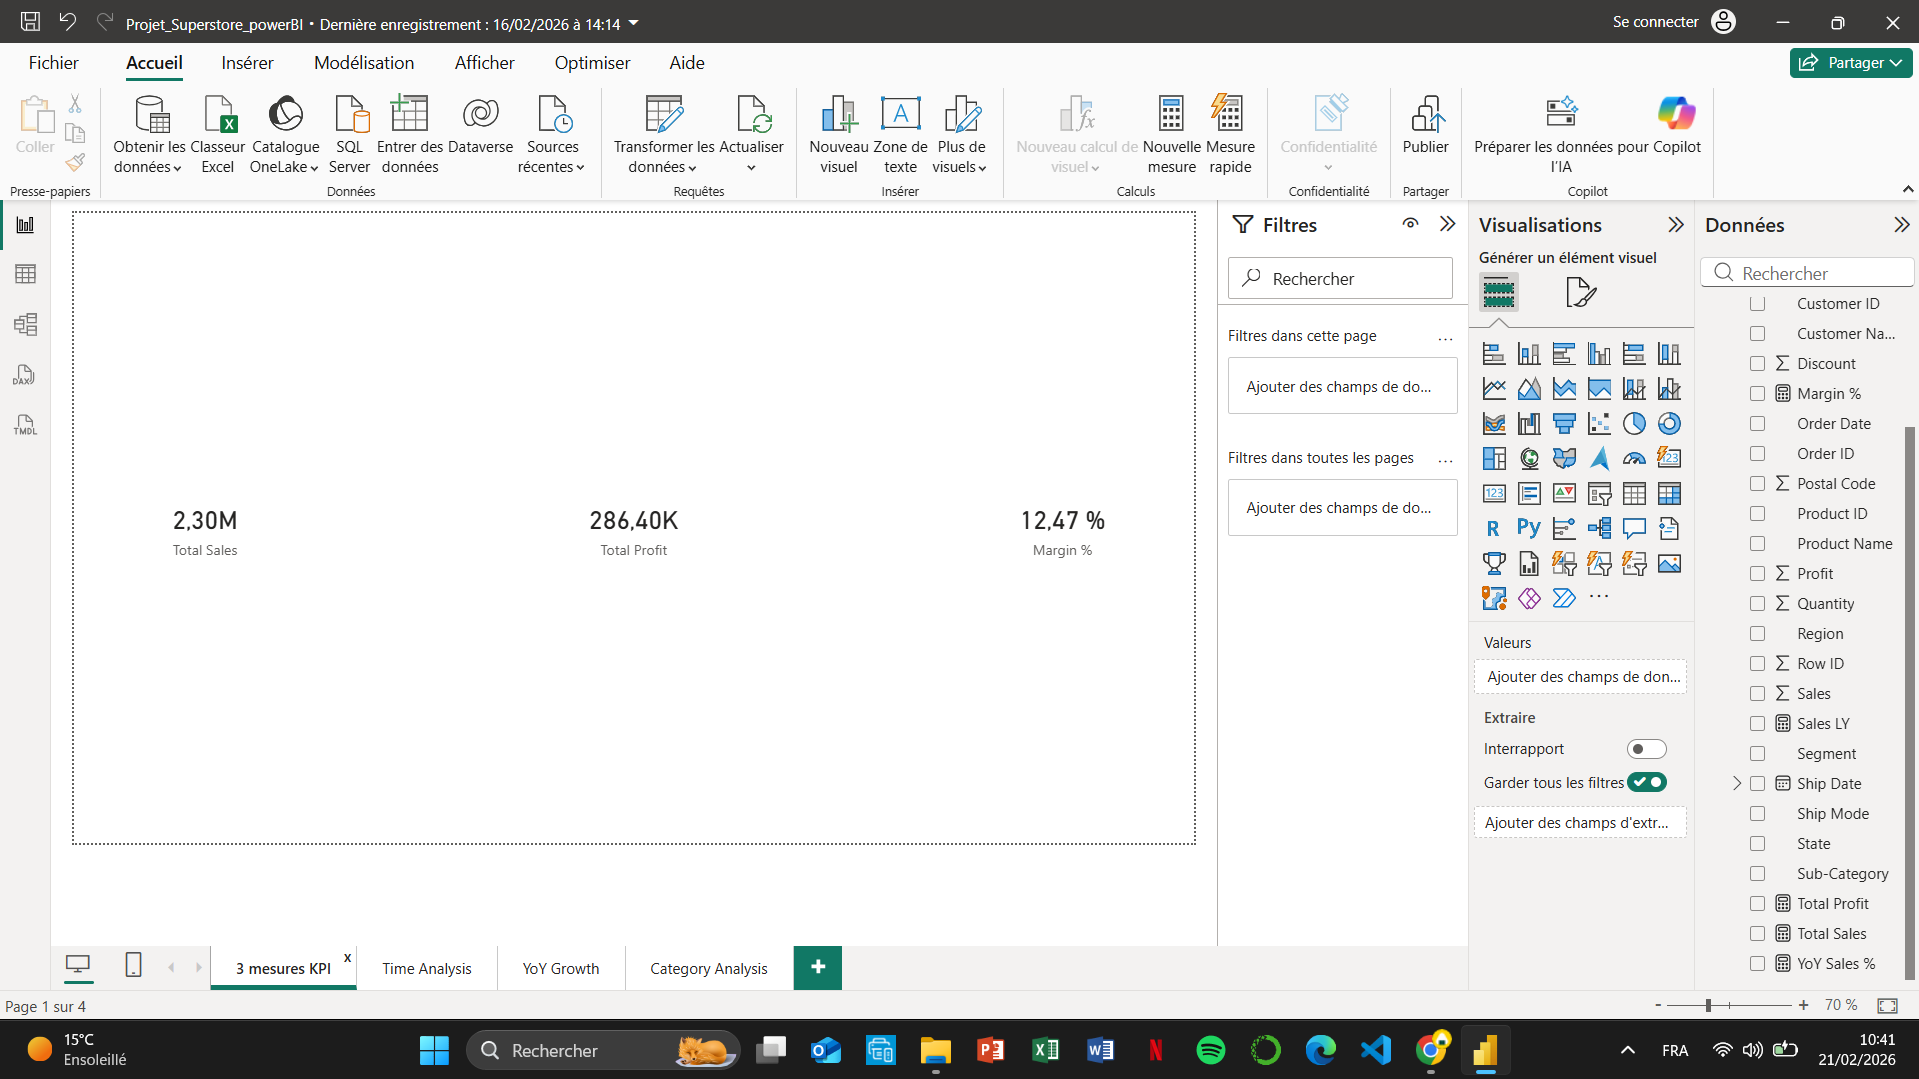

The page's visual inventory and layout, read from the dashboard file:
{"tool":"powerbi","page":{"name":"3 mesures KPI","canvas":[1280,720],"ordinal":0},"visuals":[{"type":"card","fields":{"Values":["Fact_Sales.Total Sales"]},"box":[0,0,300,720],"z":0},{"type":"card","fields":{"Values":["Fact_Sales.Total Profit"]},"box":[490,0,300,720],"z":1000},{"type":"card","fields":{"Values":["Fact_Sales.Margin %"]},"box":[980,0,300,720],"z":2000}]}

Visuals, with their boxes on the page's 1280x720 design canvas (x1, y1, x2, y2). These are canvas units, not pixel positions in the 1919x1079 screenshot, which may show the page scaled, cropped or inside an application window:
card - Fact_Sales.Total Sales: (0, 0, 300, 720)
card - Fact_Sales.Total Profit: (490, 0, 790, 720)
card - Fact_Sales.Margin %: (980, 0, 1280, 720)
